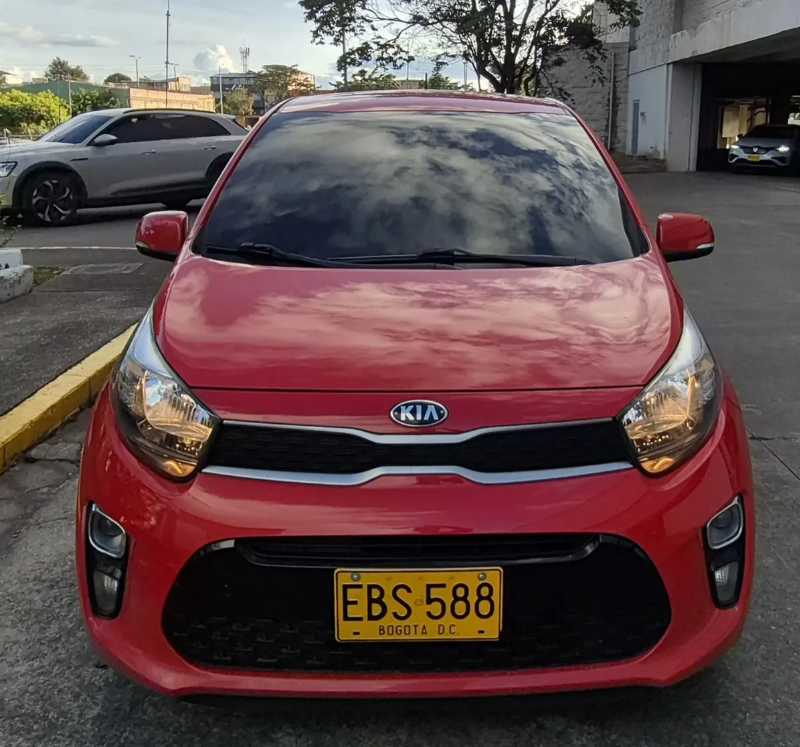placa: (334, 569, 502, 642)
